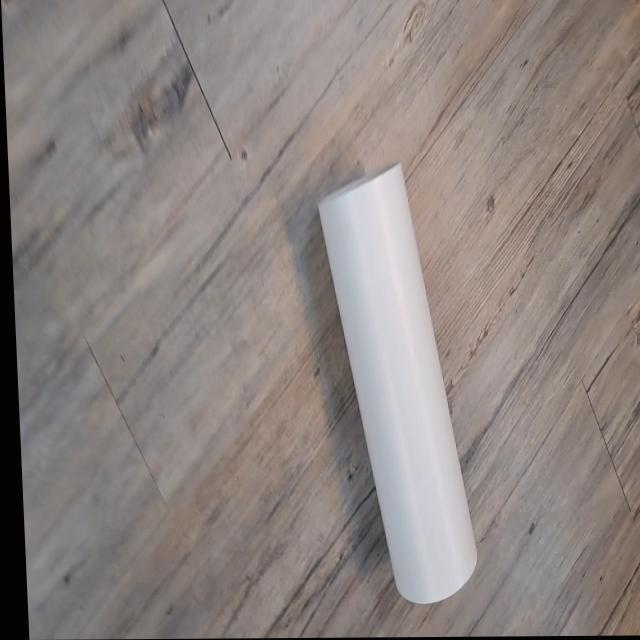CORAL: (295, 160, 487, 611)
